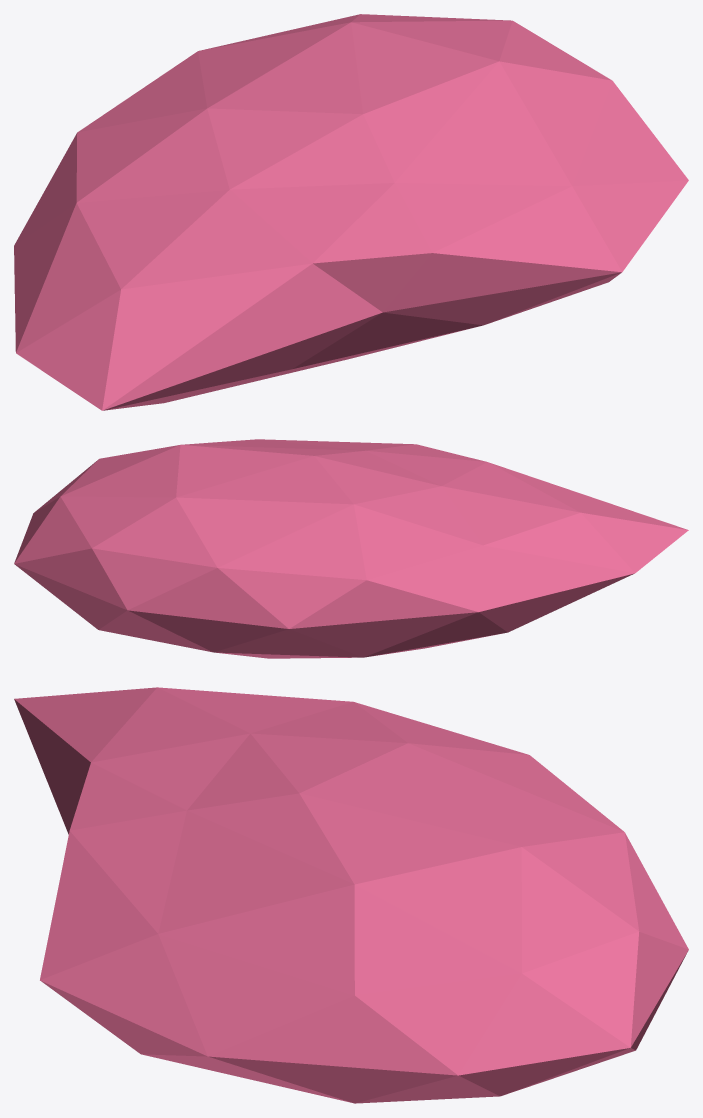
Rendered from lung_left.fbx.
3 renders of one model, top to bottom at view 1: azimuth 30°, elevation 25°; view 2: azimuth 150°, elevation 25°; view 3: azimuth 270°, elevation 25°, orthographic. The views are drawn at different scales.
Visible parts, largest first — view 1: Icosphere.001; view 2: Icosphere.001; view 3: Icosphere.001.
Boxes of the visible parts, <box> form: Icosphere.001: <box>14,14,688,410</box>; Icosphere.001: <box>14,439,688,658</box>; Icosphere.001: <box>14,687,688,1103</box>.
Bounding box in the file's own units: 150 × 47.67 × 112.
